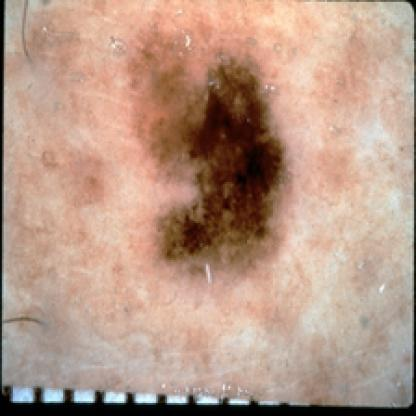malignant: (136, 46, 294, 266)
